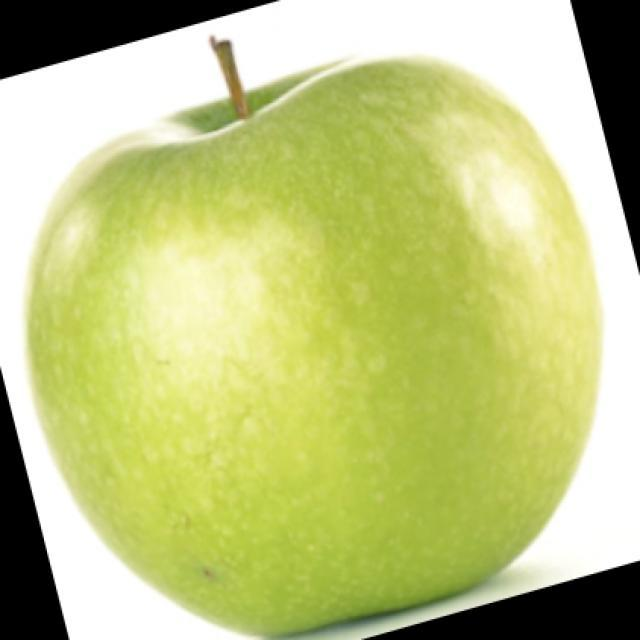Fresh Apple: (58, 60, 597, 640)
